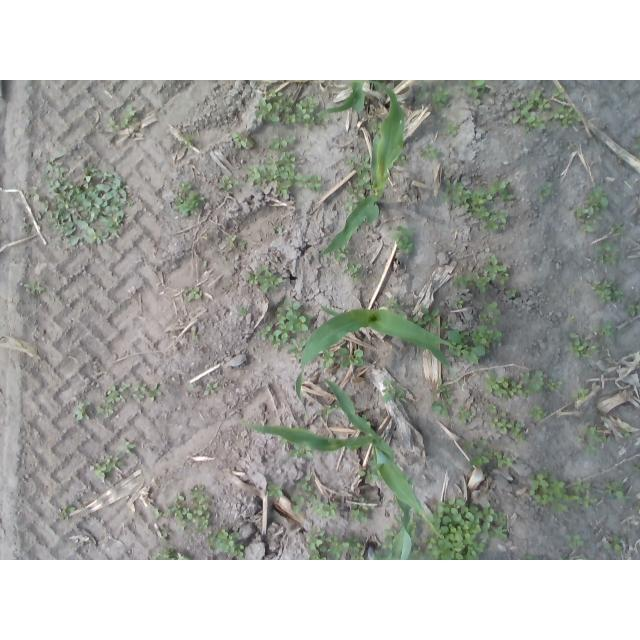Maize: (225, 376, 454, 548), (296, 305, 461, 418), (317, 81, 404, 256), (373, 496, 412, 561), (316, 81, 366, 116)
Weeds: (34, 151, 126, 246), (431, 497, 497, 560), (259, 299, 309, 350), (530, 472, 579, 504), (262, 164, 323, 188), (448, 328, 487, 364), (173, 190, 206, 218), (258, 264, 283, 293), (95, 455, 125, 478), (548, 106, 582, 126), (311, 496, 340, 519), (582, 186, 610, 207), (327, 536, 350, 560), (520, 369, 544, 392), (494, 379, 523, 398), (486, 370, 507, 395), (591, 280, 611, 305), (485, 260, 508, 281), (472, 325, 496, 345), (433, 85, 452, 110), (297, 98, 319, 119), (340, 348, 364, 367), (525, 112, 546, 133), (512, 101, 532, 123), (189, 485, 211, 505), (602, 480, 623, 500), (570, 333, 587, 357), (307, 525, 326, 545), (586, 424, 607, 442), (351, 534, 366, 559), (256, 99, 272, 122), (269, 135, 295, 149), (420, 143, 440, 161), (466, 80, 486, 98), (602, 534, 622, 552), (454, 184, 471, 205), (74, 400, 91, 421), (421, 307, 440, 325), (469, 188, 487, 207), (247, 163, 265, 182), (578, 492, 598, 509), (233, 133, 255, 148), (279, 96, 298, 113), (291, 444, 314, 458), (288, 338, 308, 354), (393, 226, 414, 241), (218, 175, 238, 190), (117, 439, 137, 454), (527, 405, 547, 420), (453, 272, 471, 288), (152, 548, 176, 560), (431, 400, 449, 416), (487, 182, 509, 195), (359, 469, 378, 484), (539, 182, 552, 203), (280, 152, 296, 169), (147, 381, 162, 399), (383, 379, 394, 403), (473, 204, 489, 220), (574, 476, 590, 492), (268, 89, 285, 104), (296, 477, 313, 492), (229, 539, 243, 557), (268, 103, 281, 122), (349, 188, 368, 201), (358, 173, 371, 192), (628, 298, 640, 318), (587, 207, 603, 222), (184, 287, 200, 302), (355, 157, 370, 173), (193, 516, 208, 532), (290, 495, 302, 515), (457, 406, 472, 422), (276, 181, 293, 195), (566, 533, 583, 547), (58, 507, 76, 520), (25, 282, 44, 294), (510, 421, 522, 440), (268, 483, 283, 498), (106, 386, 120, 402), (350, 510, 366, 524), (392, 389, 408, 403), (194, 505, 211, 518), (159, 522, 172, 539), (573, 387, 590, 400), (491, 209, 509, 221), (475, 279, 489, 294), (323, 349, 334, 368), (484, 218, 500, 231), (409, 315, 426, 327), (343, 263, 361, 274), (450, 341, 462, 357), (603, 319, 613, 338), (398, 242, 415, 253), (391, 302, 405, 315), (182, 133, 195, 147), (499, 419, 512, 433), (499, 188, 514, 200), (537, 97, 552, 109), (205, 383, 220, 395), (547, 378, 562, 390), (471, 456, 490, 465), (346, 197, 358, 211), (359, 498, 373, 510), (383, 296, 398, 307), (497, 457, 512, 468), (571, 207, 587, 217), (606, 252, 619, 264), (552, 87, 565, 99), (528, 90, 541, 102), (417, 91, 430, 103), (422, 536, 435, 548), (449, 121, 460, 135), (265, 155, 279, 166), (126, 103, 137, 117), (588, 339, 599, 353), (612, 222, 624, 234), (310, 544, 326, 553), (620, 426, 632, 438), (487, 302, 500, 313), (497, 526, 508, 539), (461, 330, 471, 344), (103, 404, 113, 418), (496, 511, 506, 525), (551, 503, 565, 513), (408, 520, 416, 537), (594, 244, 613, 251), (246, 273, 258, 284), (119, 119, 131, 130), (181, 508, 192, 520), (218, 540, 229, 552), (488, 416, 499, 428), (613, 290, 624, 302), (171, 505, 182, 516), (580, 224, 595, 232), (284, 113, 296, 123), (334, 249, 346, 259), (446, 387, 453, 404), (326, 407, 343, 414), (208, 538, 217, 551), (309, 554, 328, 560), (23, 215, 30, 231), (453, 297, 463, 308), (445, 180, 455, 191), (238, 305, 248, 316), (225, 235, 236, 245), (371, 121, 381, 132), (132, 394, 144, 403), (174, 494, 186, 503), (386, 526, 398, 535), (476, 448, 488, 457), (119, 383, 132, 391), (610, 277, 618, 290), (507, 289, 517, 299), (107, 118, 117, 128), (489, 403, 499, 413), (345, 156, 356, 165), (181, 182, 192, 191), (152, 507, 161, 518), (219, 529, 228, 540), (105, 127, 119, 134), (177, 553, 191, 560), (318, 116, 330, 124), (134, 382, 146, 390), (500, 273, 509, 283), (612, 246, 622, 255), (443, 193, 453, 202), (175, 514, 185, 523), (473, 439, 488, 445), (462, 442, 472, 451), (436, 385, 447, 393), (491, 316, 500, 325), (394, 514, 403, 523), (493, 331, 503, 339), (305, 118, 315, 126), (352, 271, 360, 281), (238, 239, 246, 249), (413, 547, 421, 557), (229, 533, 240, 540), (633, 463, 640, 474), (522, 556, 541, 560), (472, 274, 480, 283), (397, 155, 405, 164), (96, 406, 104, 415), (164, 509, 173, 517), (207, 530, 216, 538), (342, 246, 350, 254), (567, 314, 575, 322), (488, 255, 497, 262), (479, 315, 488, 322), (589, 444, 596, 453), (524, 390, 533, 397), (420, 80, 430, 86), (276, 227, 284, 234), (620, 495, 628, 502), (519, 433, 525, 442), (383, 544, 393, 549), (192, 334, 199, 341), (203, 261, 210, 268), (633, 145, 640, 152), (281, 438, 288, 445), (443, 323, 451, 329), (486, 195, 494, 201), (190, 382, 198, 388), (494, 451, 502, 457), (600, 256, 605, 265), (24, 194, 33, 199), (215, 535, 221, 542), (579, 436, 585, 443), (437, 378, 444, 384), (392, 381, 399, 387), (595, 325, 602, 331), (523, 546, 528, 554), (570, 284, 575, 292), (221, 255, 227, 261), (307, 502, 313, 508), (484, 301, 489, 308), (476, 99, 481, 106), (179, 526, 186, 531), (73, 544, 80, 549), (511, 456, 518, 461), (202, 236, 208, 241), (491, 450, 494, 458), (618, 157, 621, 163), (316, 412, 320, 415)
